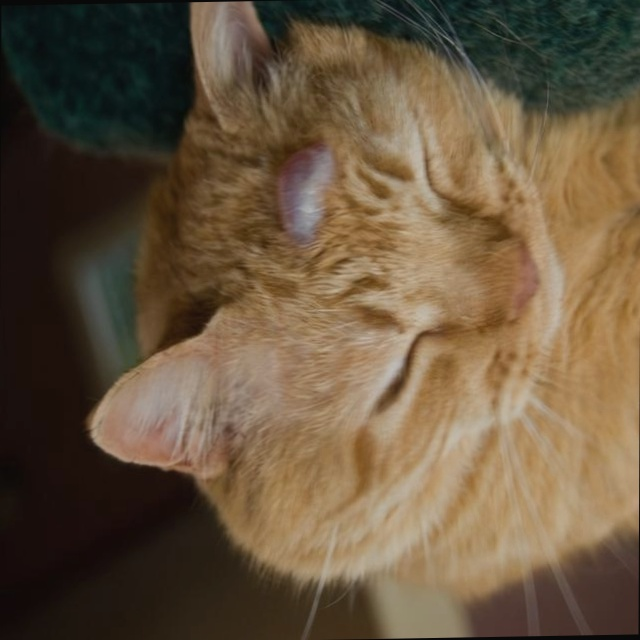lump_and_bump: (279, 137, 330, 243)
